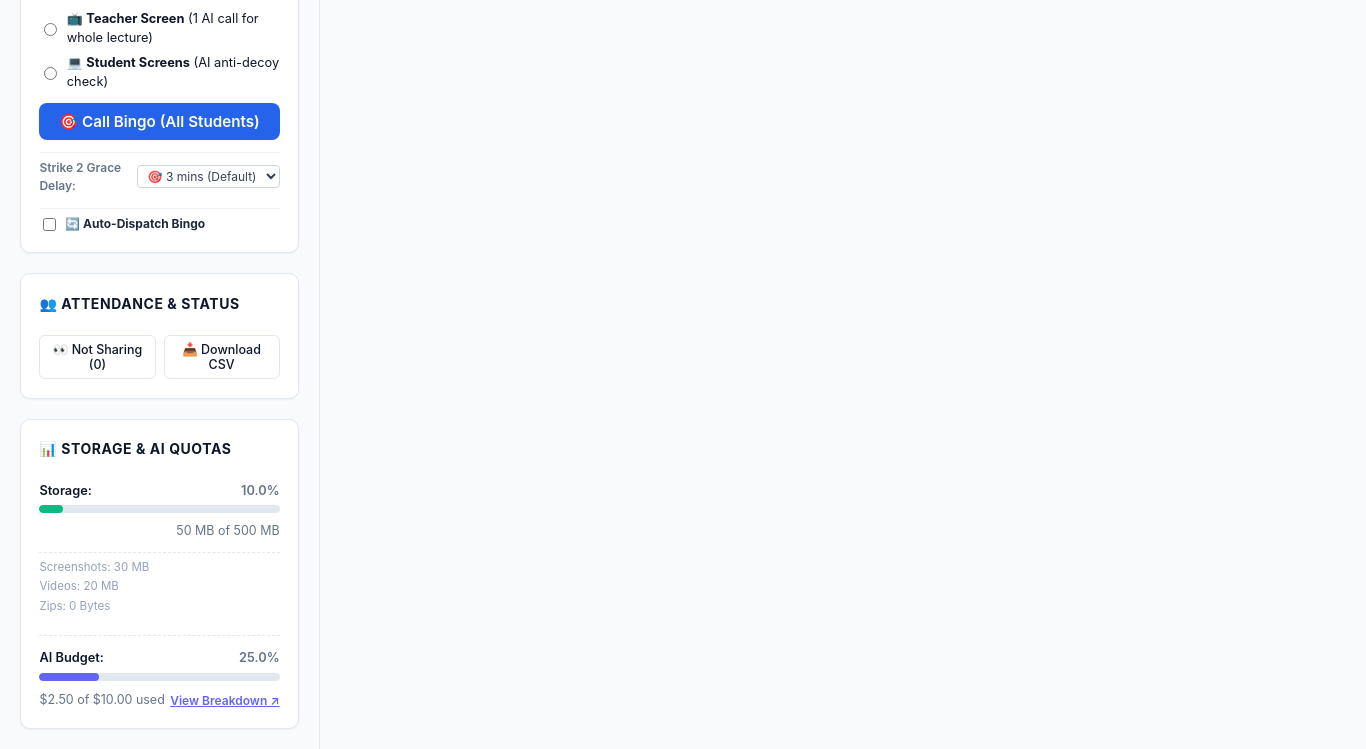
ControlsPanel Full Component Suite › opens AI cost breakdown audit modal on click View Breakdown
(page scrolled)
Click the button "View Breakdown ↗" at (225, 700), box [170,692,280,708]
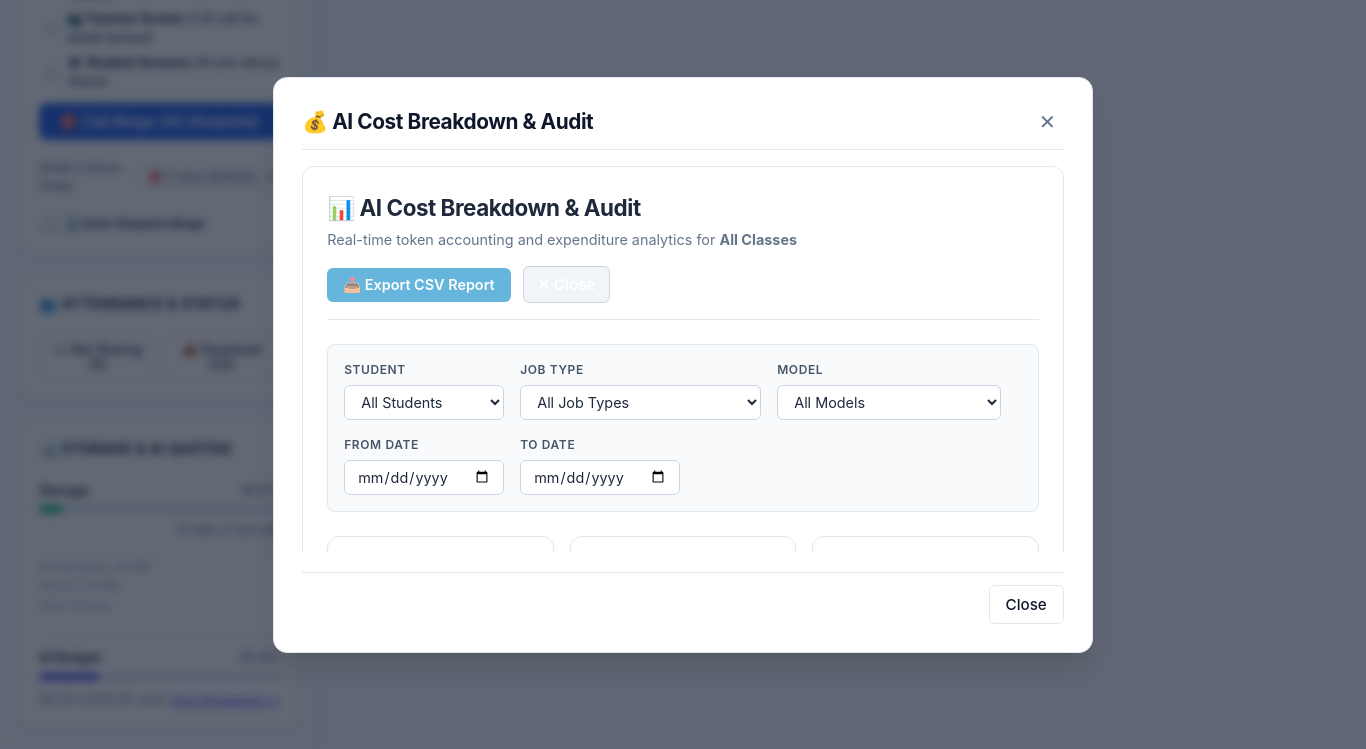
Now the heading "💰 AI Cost Breakdown & Audit" is shown, box [302,106,593,137]
